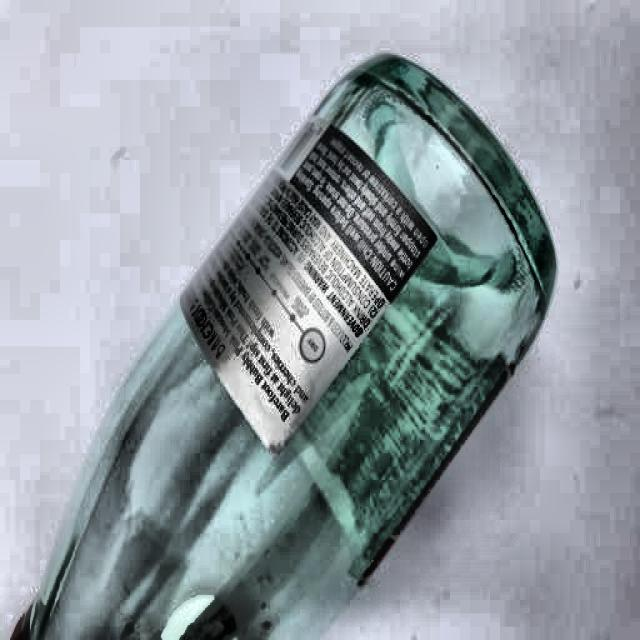glass: (24, 55, 556, 640)
